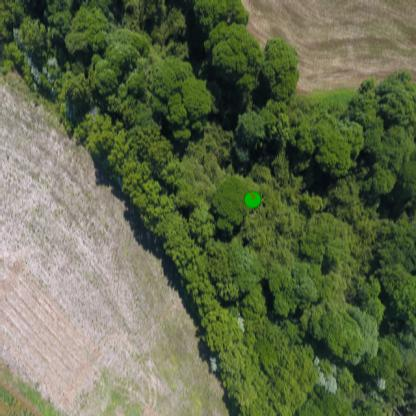J: (246, 190, 257, 200)
circle: (243, 190, 262, 209)
